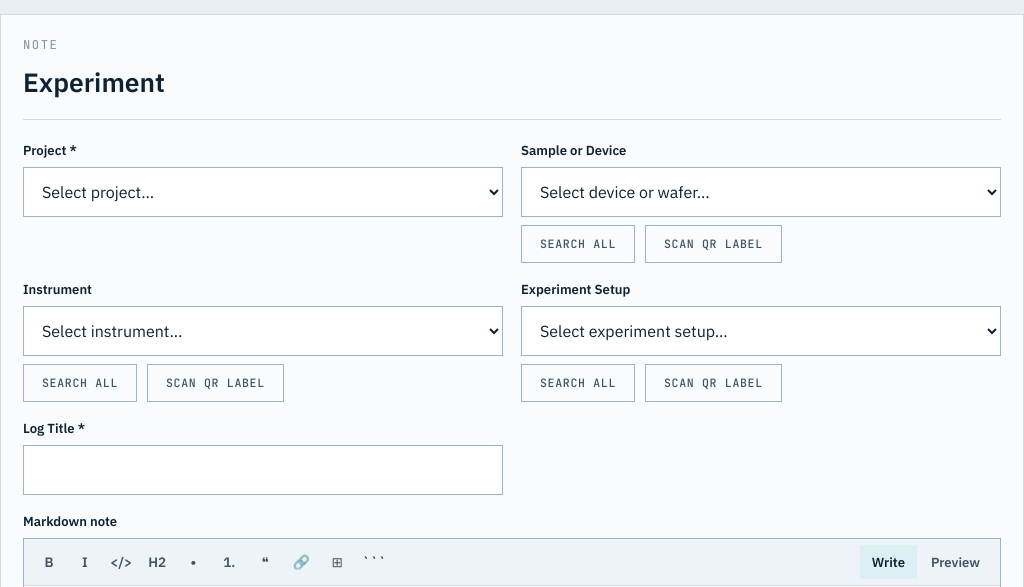
it: project dropdown › shows a hint when sample and setup carry different projects
expect the dropdown labelled "Project *" is enabled: met, box [23,167,503,217]
Select "W1 (wafer)" in the dropdown labelled "Sample or Device": {"x": 761, "y": 192} [521,167,1001,217]
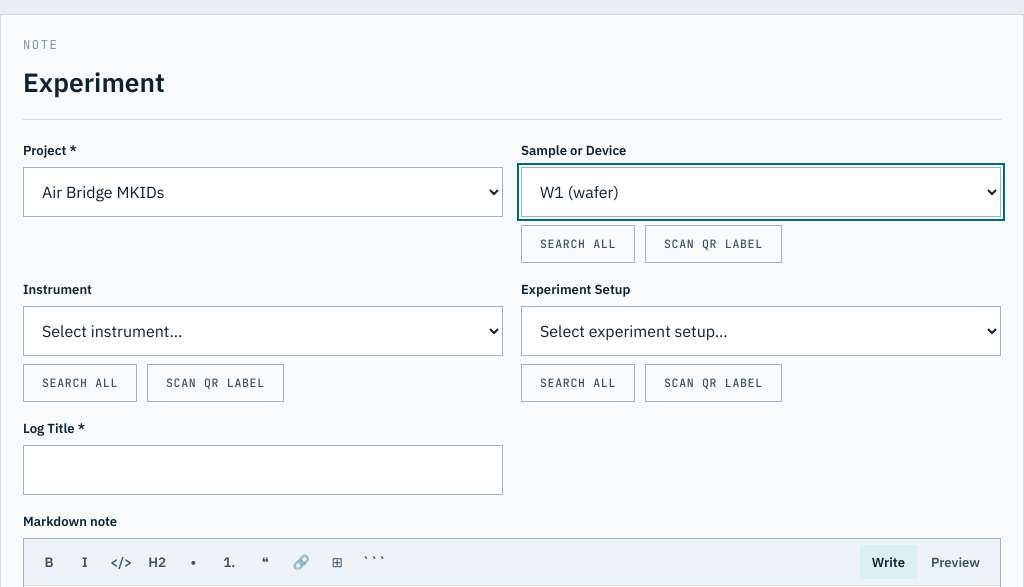
Select "Cooldown 4" in the dropdown labelled "Experiment Setup": {"x": 761, "y": 331} [521,306,1001,356]
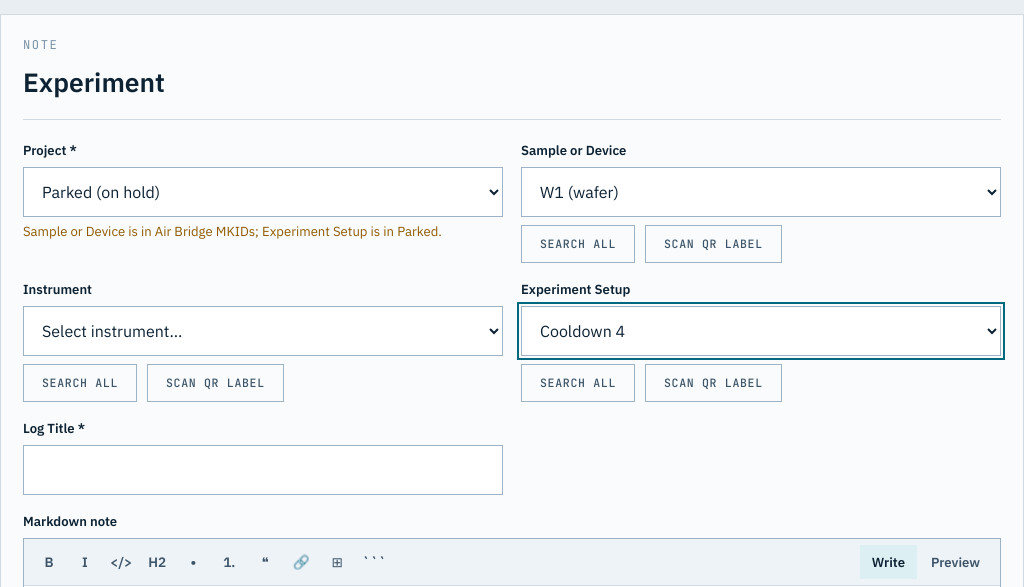
expect the text "Sample or Device is in Air Bridge MKIDs; Experiment Setup is in Parked." is shown: met, box [23,223,503,240]
expect the dropdown labelled "Project *" shows "Parked (on hold)": met, box [23,167,503,217]
